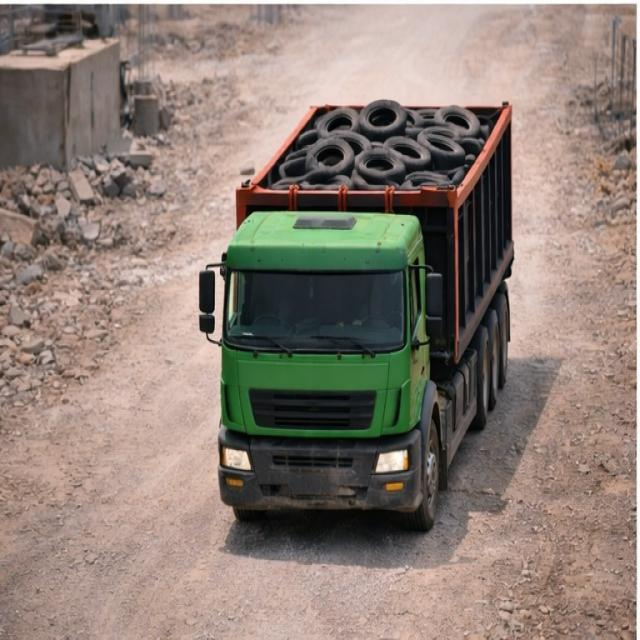Box: (237, 99, 507, 206)
Truck: (192, 80, 518, 513)
